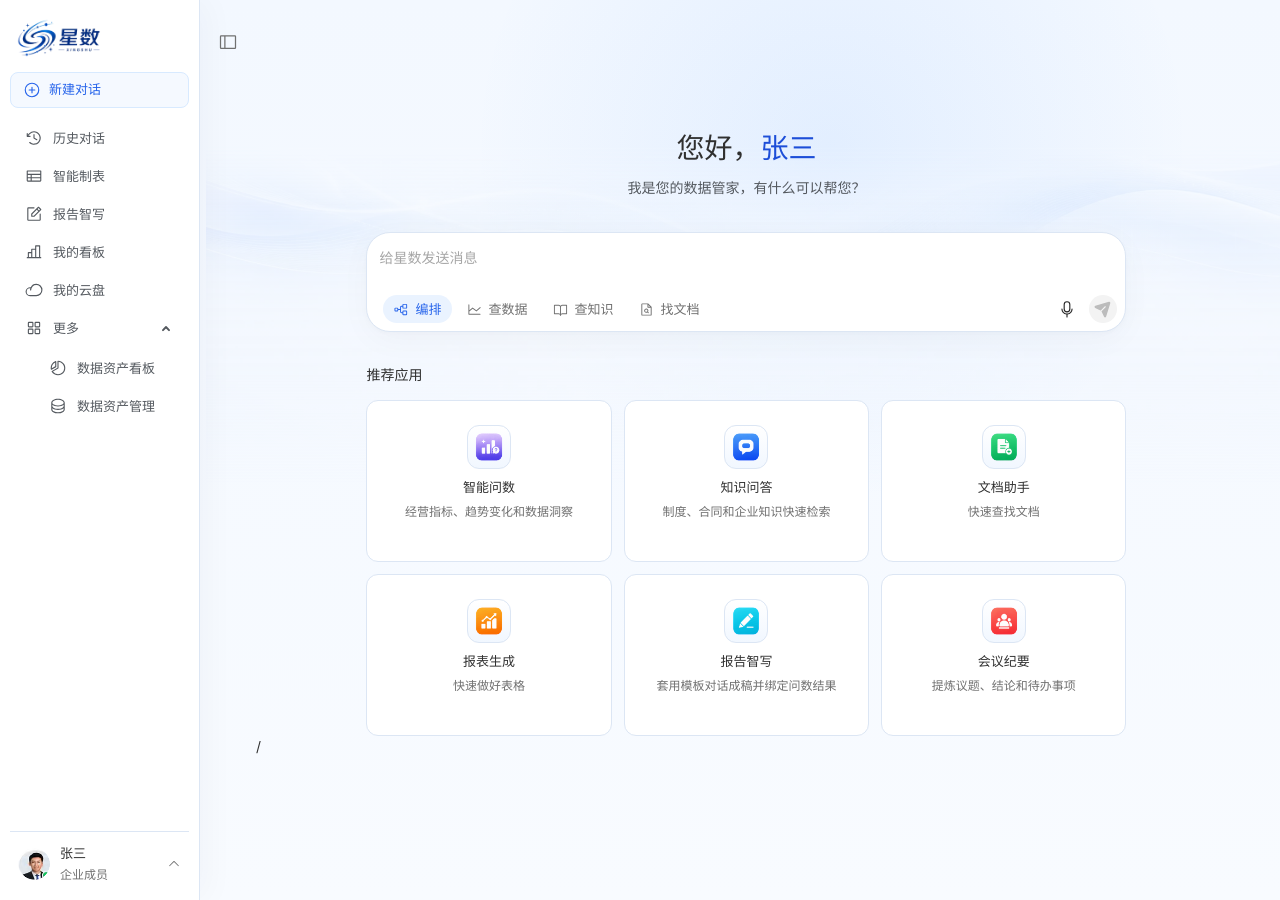
Test case: HomePage › routes 报表生成 to its product workspace
This screenshot has width=1280, height=900.
Click the button "报表生成 快速做好表格" at {"x": 489, "y": 656}, box [383, 589, 595, 723]
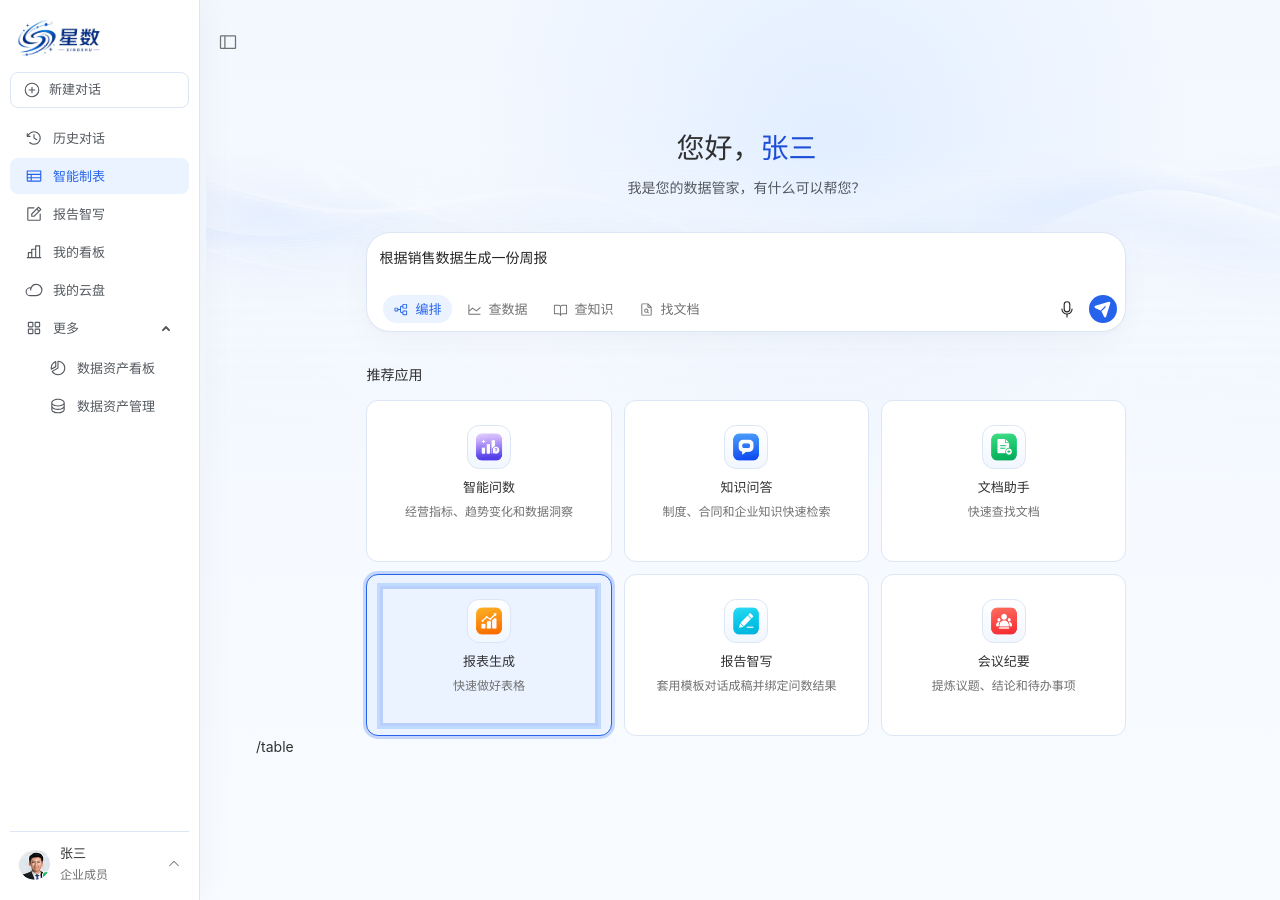
Now the text named "当前应用路径" reads "/table", box [256, 738, 294, 755]
